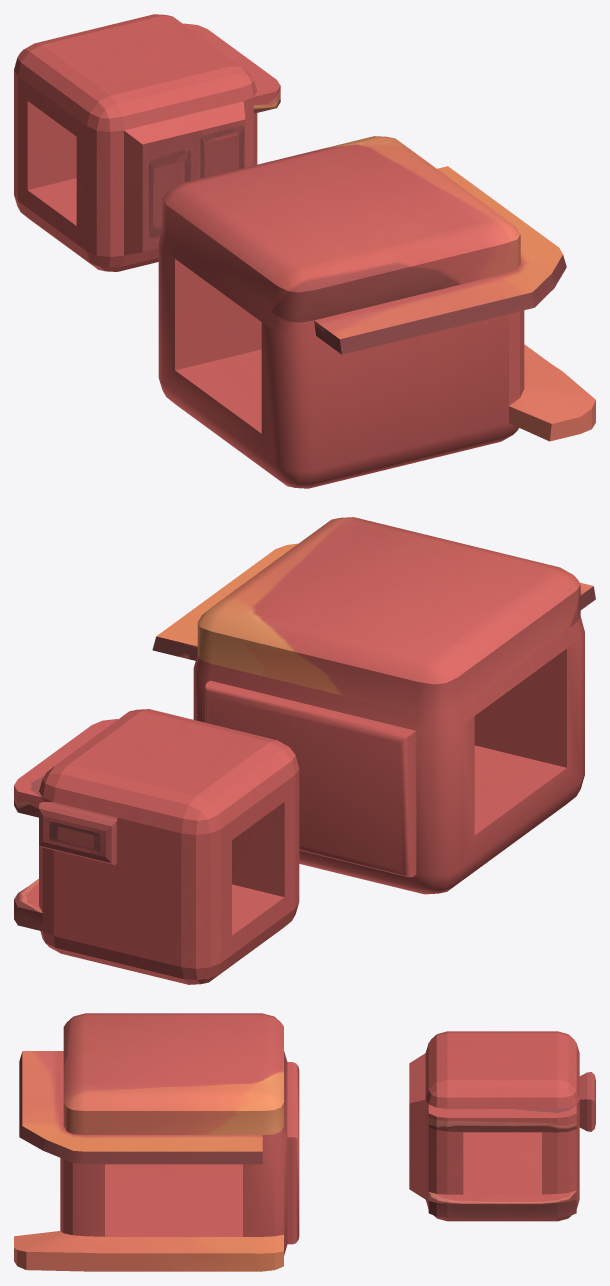
Rendered from PROP1.fbx.
3 views of the same model, one above another, from view 1: azimuth 30°, elevation 25°; view 2: azimuth 150°, elevation 25°; view 3: azimuth 270°, elevation 25° (orthographic). The views are drawn at different scales.
Visible parts, largest first — view 1: Cube.005, Cube.006; view 2: Cube.005, Cube.006; view 3: Cube.005, Cube.006.
Boxes of the visible parts, left/top/right/bottom form: Cube.005: left=158, top=136, right=595, bottom=488; Cube.006: left=14, top=14, right=280, bottom=271; Cube.005: left=152, top=517, right=595, bottom=894; Cube.006: left=14, top=709, right=299, bottom=984; Cube.005: left=14, top=1013, right=299, bottom=1271; Cube.006: left=409, top=1031, right=595, bottom=1221.
Bounding box in the file's own units: 346 × 252 × 756.
Materials: 1 (1 with a texture image).
